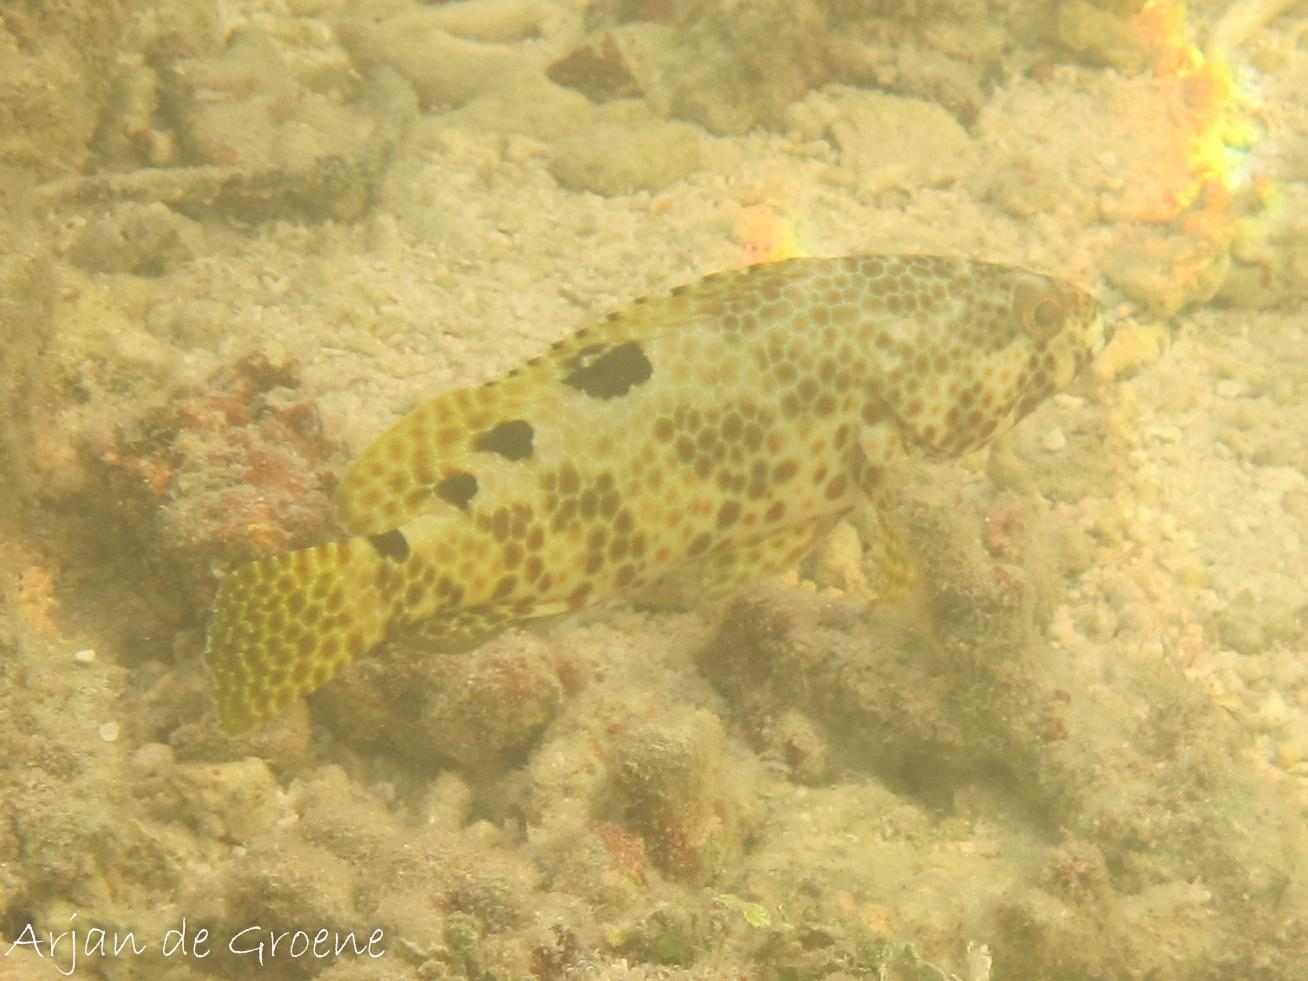Fish: (190, 233, 1118, 750)
